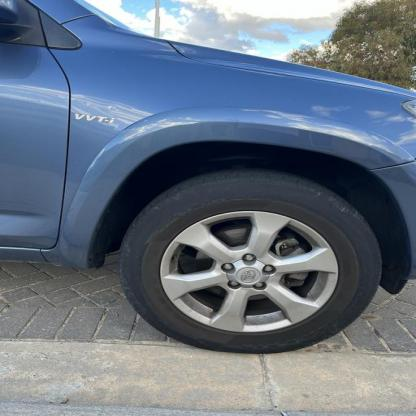Tire: (117, 168, 385, 354)
